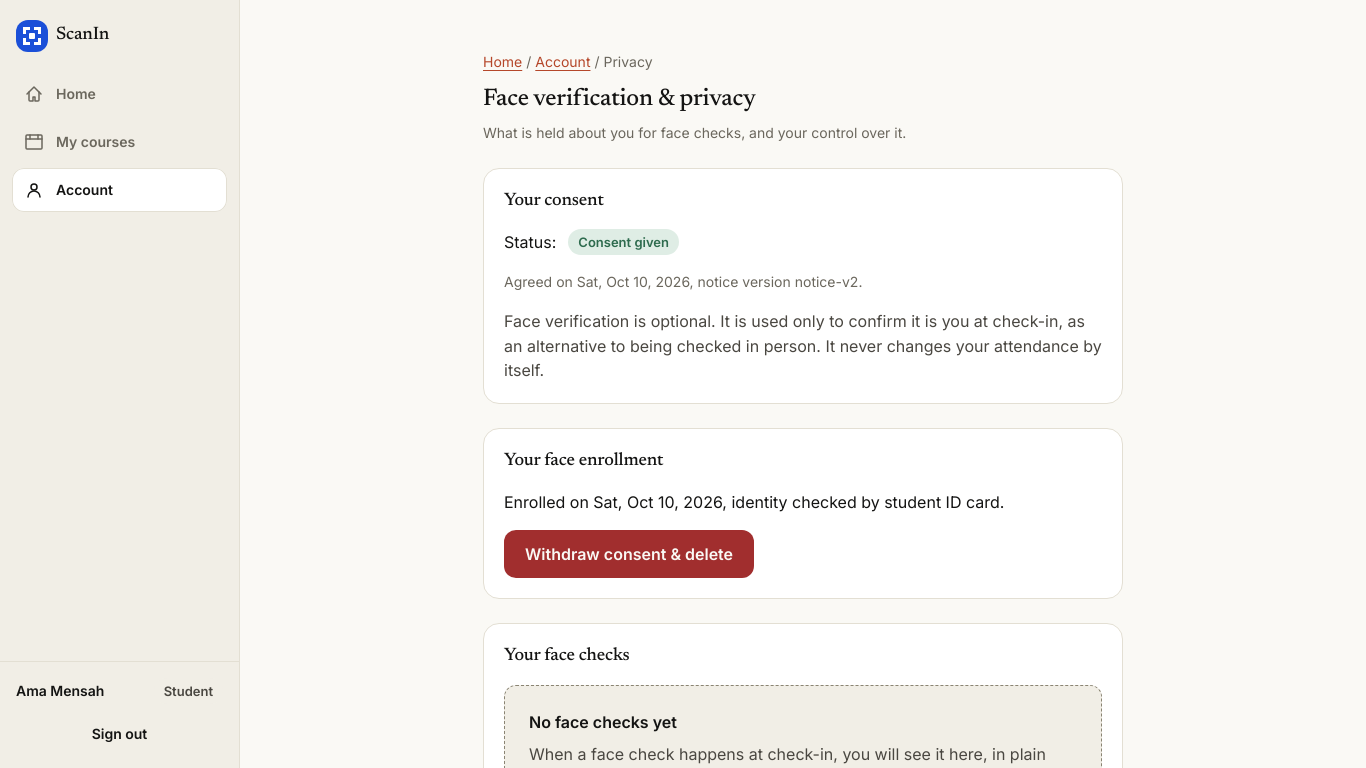
Test case: student privacy page › withdraws consent after a confirmation, and reports the deletion
Click the button "Withdraw consent & delete" at (629, 554), box x1=504 y1=530 x2=754 y2=578
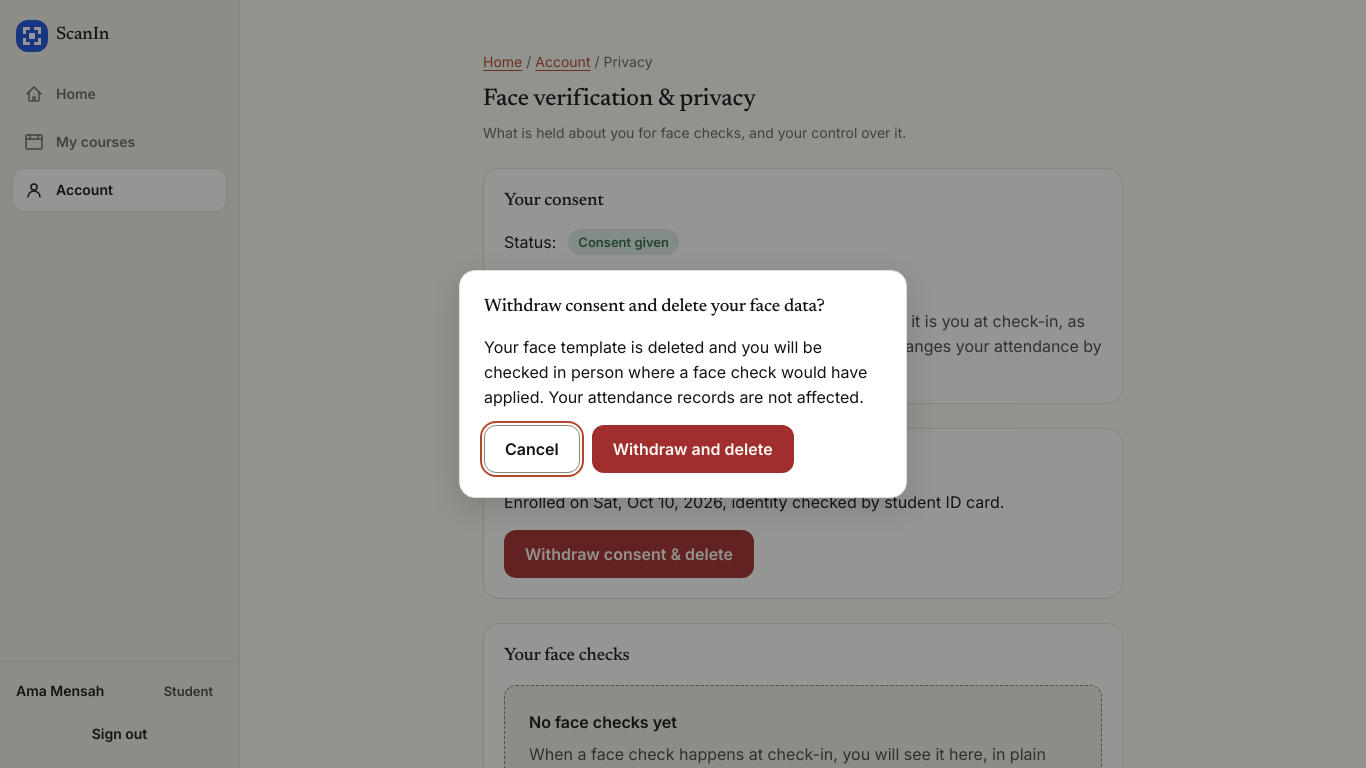
Click the button "Withdraw and delete" at (693, 449), box x1=592 y1=425 x2=794 y2=473
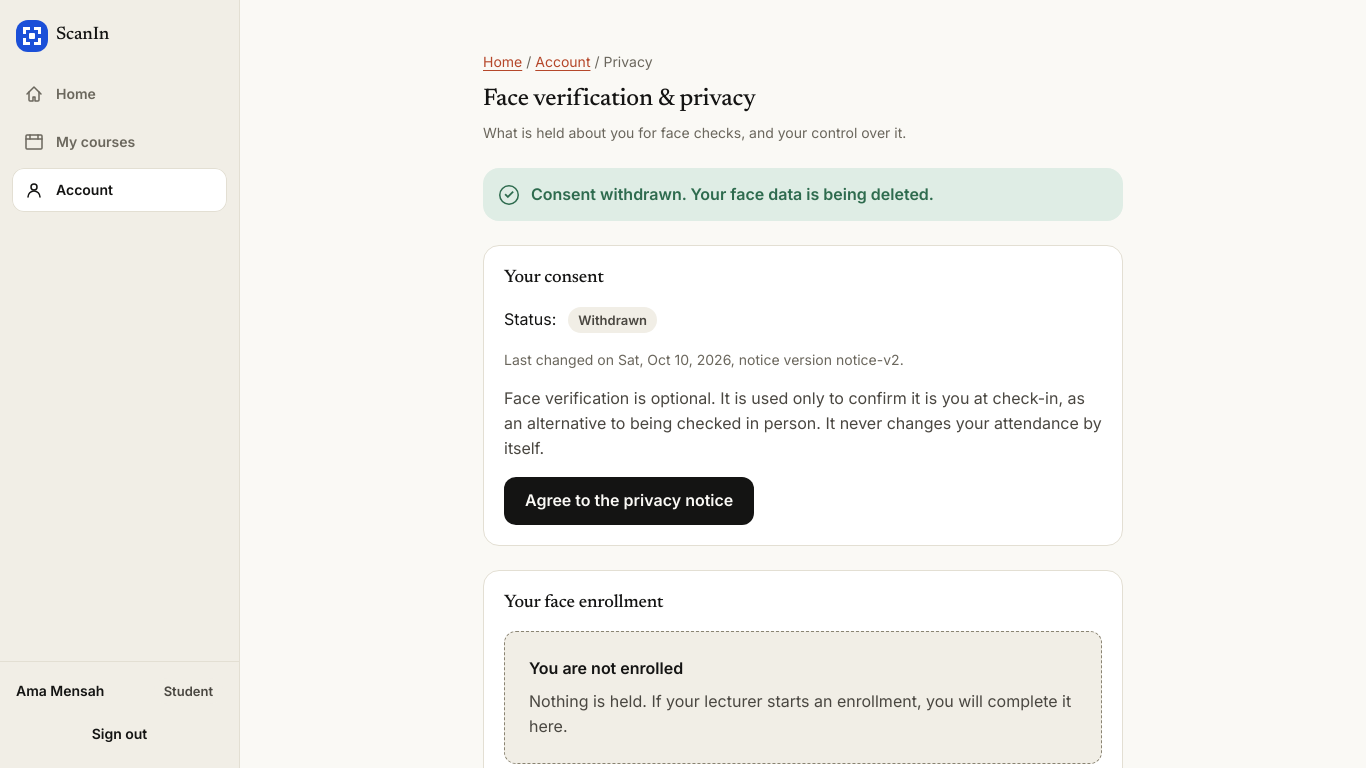
Expected: the text "Withdrawn" is shown, x1=568 y1=307 x2=657 y2=333
Expected: the text "You are not enrolled" is shown, x1=529 y1=656 x2=683 y2=681
